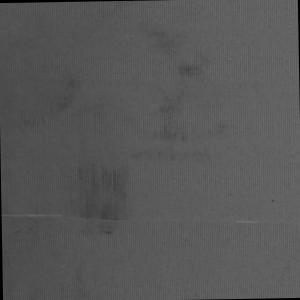Stain: (1, 157, 138, 300), (126, 21, 244, 165), (31, 70, 119, 130)
